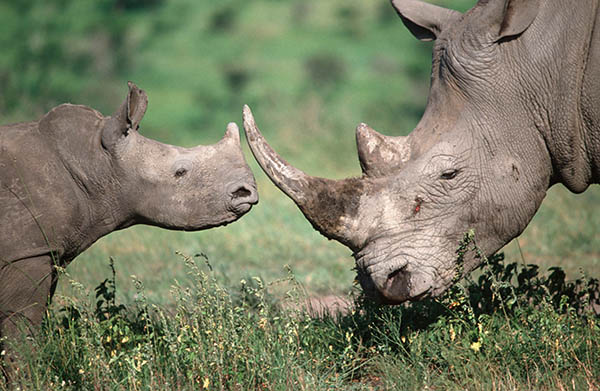Rhinoceros: (238, 2, 597, 313)
